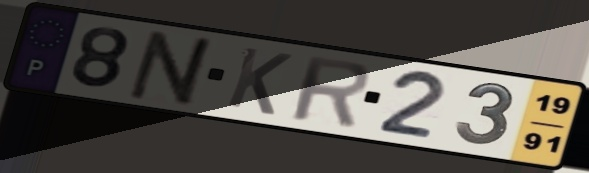2: (375, 67, 450, 145)
3: (453, 80, 519, 149)
8: (70, 26, 133, 90)
K: (222, 44, 296, 119)
N: (122, 28, 223, 110)
R: (288, 52, 373, 130)
